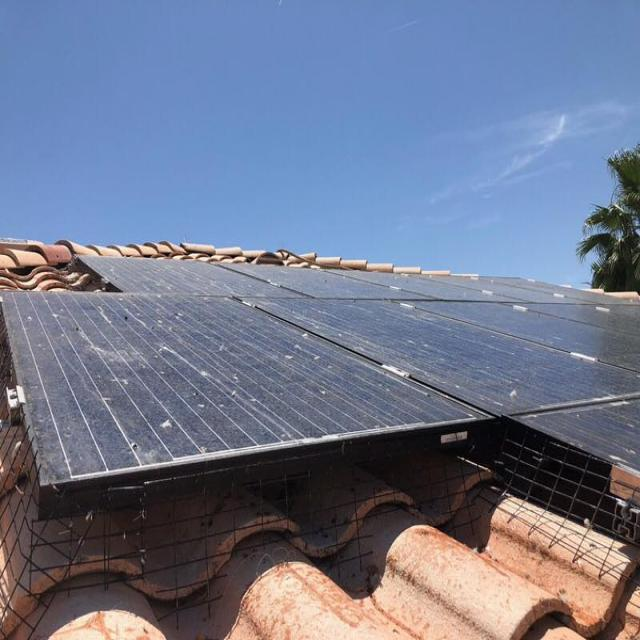dust-solar-panel: (0, 258, 640, 484)
